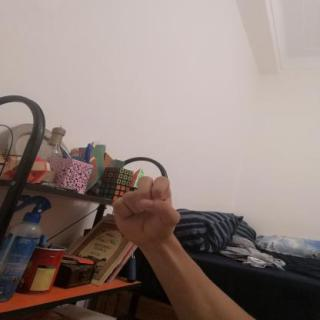QAAF: (100, 168, 195, 254)
